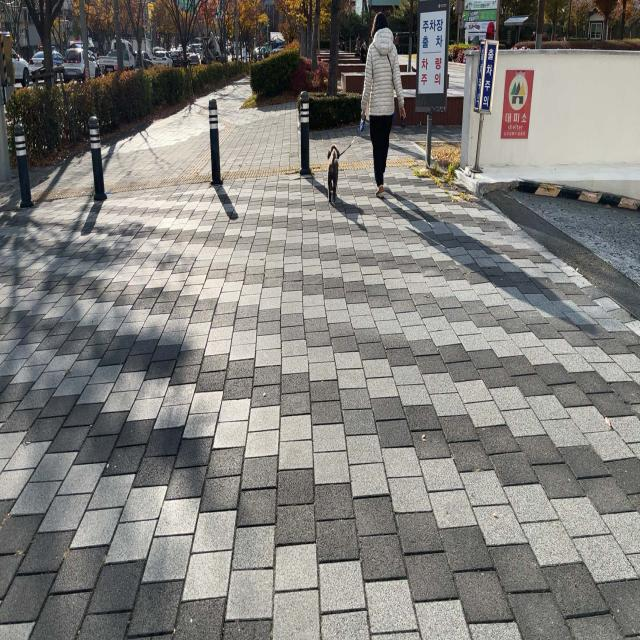Leashed_Dog: (328, 110, 384, 208)
